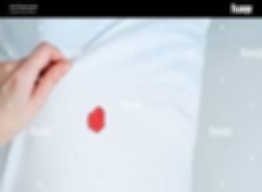blood: (87, 106, 106, 134)
